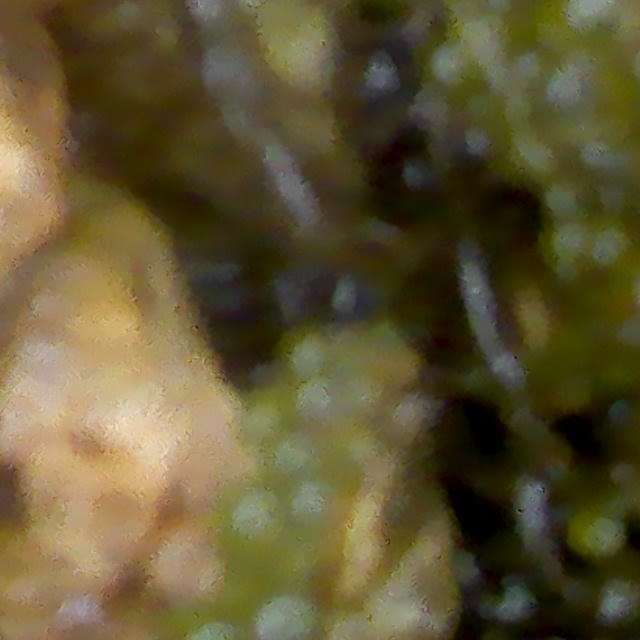SeaGrape: (212, 478, 291, 563)
